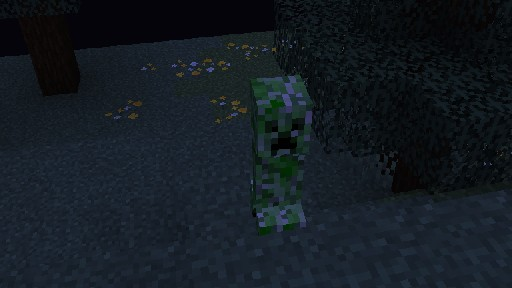creeper: (249, 74, 313, 253)
